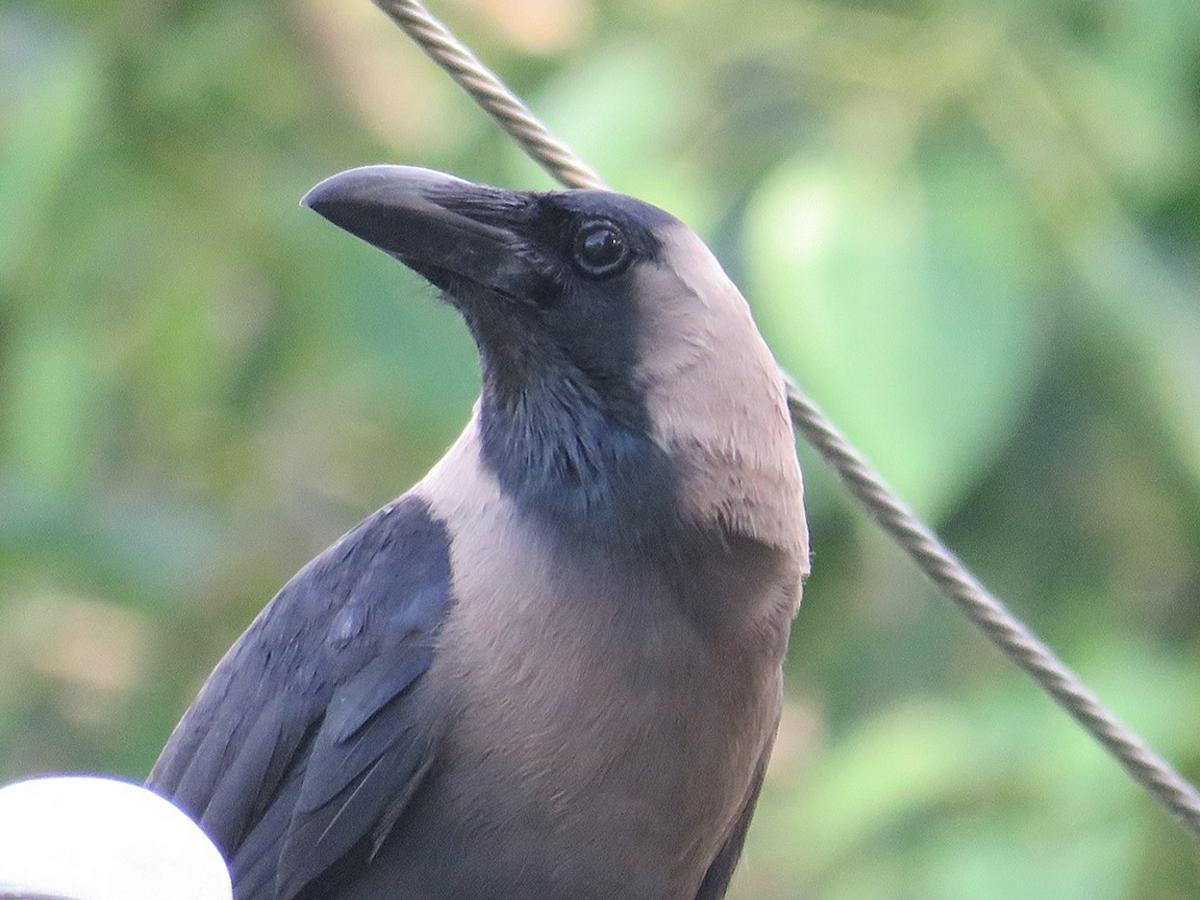crow: (213, 162, 844, 900)
